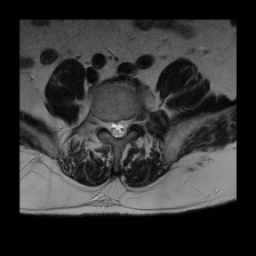CCS_normal: (114, 113, 120, 145)
LFS_normal: (128, 109, 134, 133)
LLS_normal: (120, 112, 127, 142)
RFS_normal: (100, 111, 107, 134)
RLS_normal: (107, 114, 114, 142)
